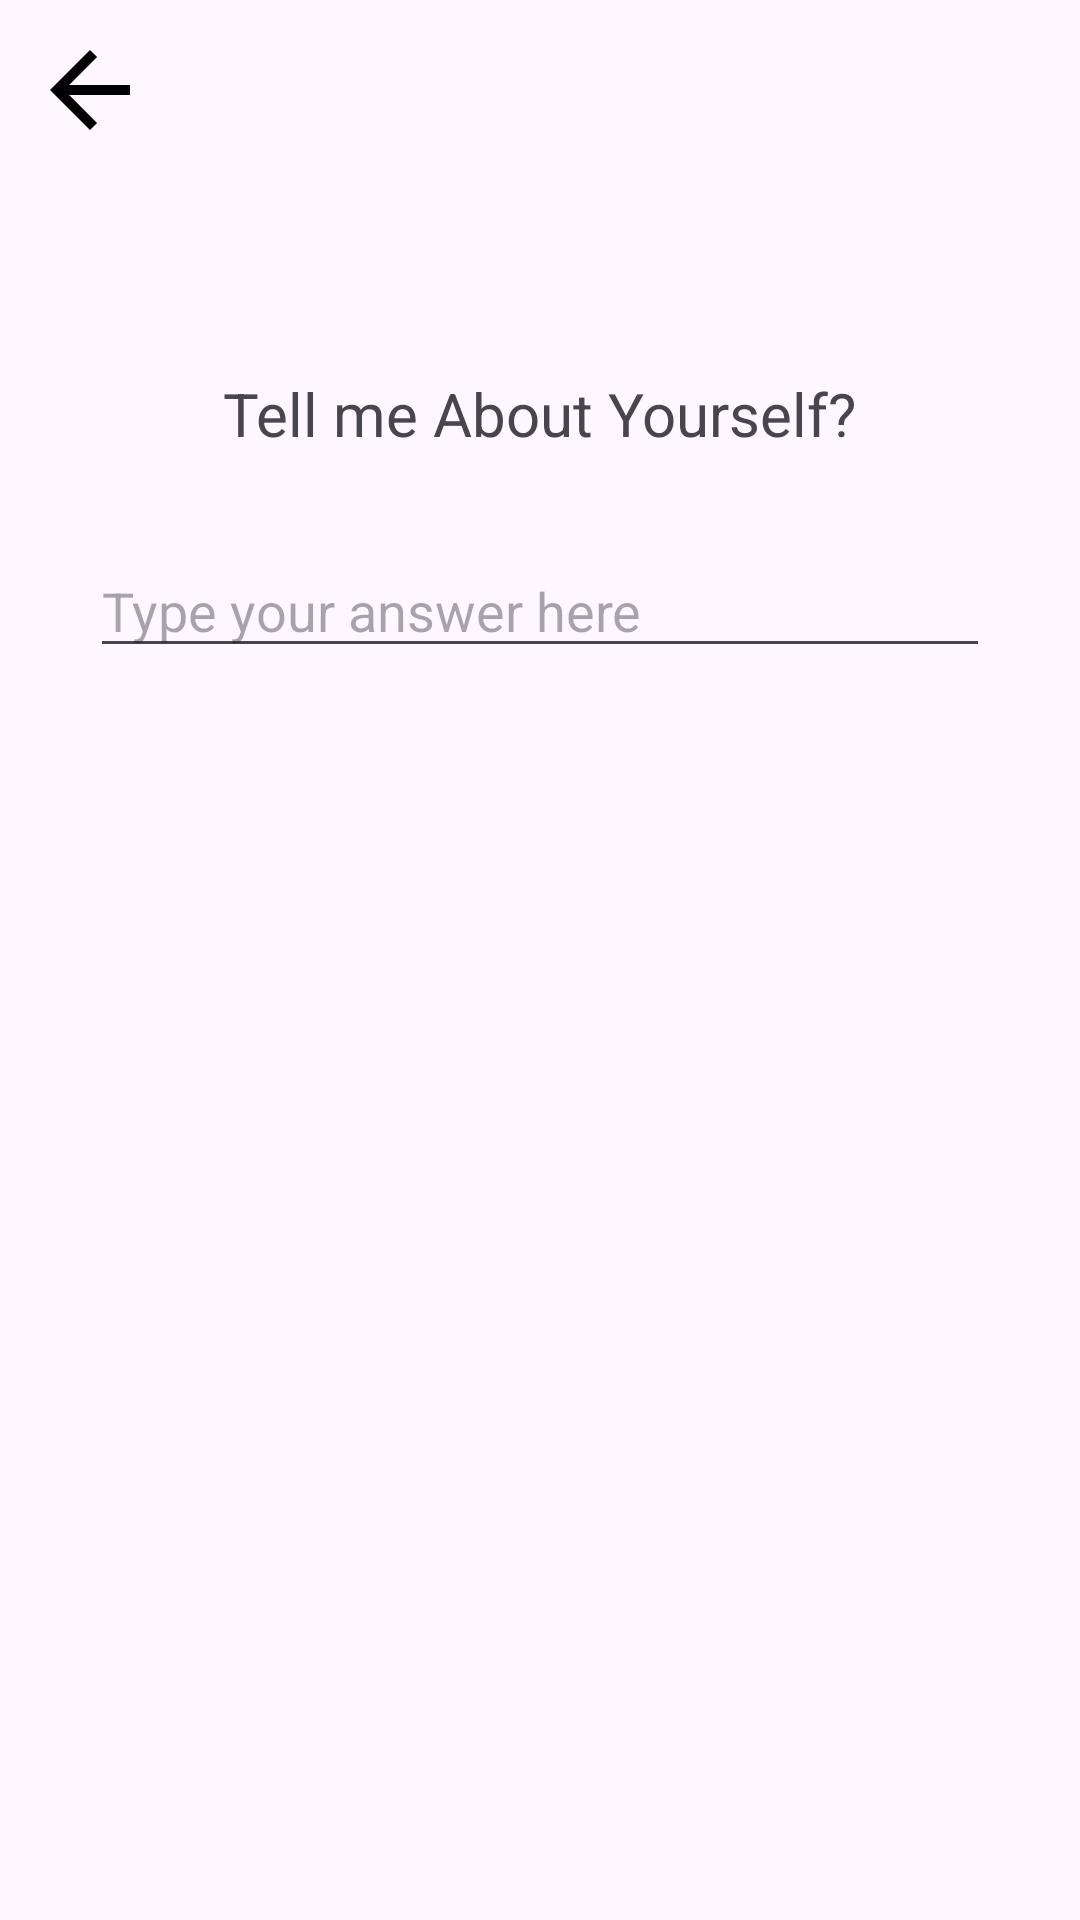

Screen size 1080×1920. Icon name, then its box in pixels as (x1, y1, x2, y2):
back arrow: (50, 50, 130, 130)
